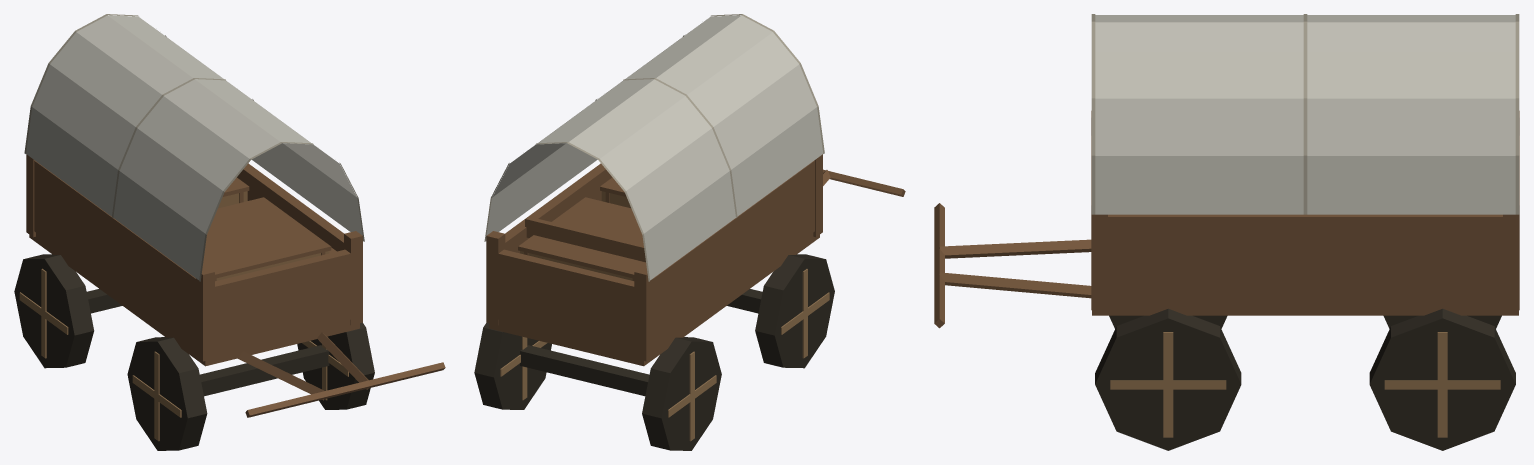
File: woh-wagon.glb
3 views of the same model, side by side, from view 1: azimuth 30°, elevation 25°; view 2: azimuth 150°, elevation 25°; view 3: azimuth 270°, elevation 25° (orthographic). The views are drawn at different scales.
Parts seen in each view (by area): view 1: canvas_canopy, part_0, part_5, wheel_1, wheel_3, wheel_2; view 2: canvas_canopy, part_0, wheel_3, wheel_1, part_5, wheel_4; view 3: canvas_canopy, part_0, wheel_2, wheel_4.
Boxes of the visible parts, x1,y1,x2,y2 form: canvas_canopy: [24, 14, 364, 281]; part_0: [26, 154, 445, 417]; part_5: [202, 177, 331, 281]; wheel_1: [127, 337, 207, 450]; wheel_3: [14, 254, 94, 368]; wheel_2: [297, 322, 374, 409]; canvas_canopy: [484, 14, 824, 281]; part_0: [486, 154, 905, 396]; wheel_3: [642, 337, 721, 450]; wheel_1: [755, 254, 834, 368]; part_5: [518, 177, 646, 280]; wheel_4: [474, 322, 551, 409]; canvas_canopy: [1091, 14, 1519, 214]; part_0: [934, 111, 1519, 328]; wheel_2: [1095, 308, 1241, 450]; wheel_4: [1369, 308, 1515, 450].
Bounding box in the file's own units: 1.8 × 2.71 × 3.84.
